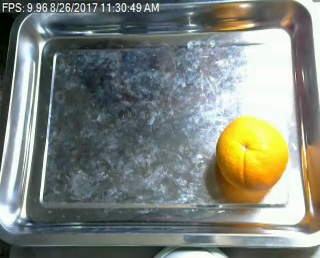Orange: (216, 115, 287, 190)
